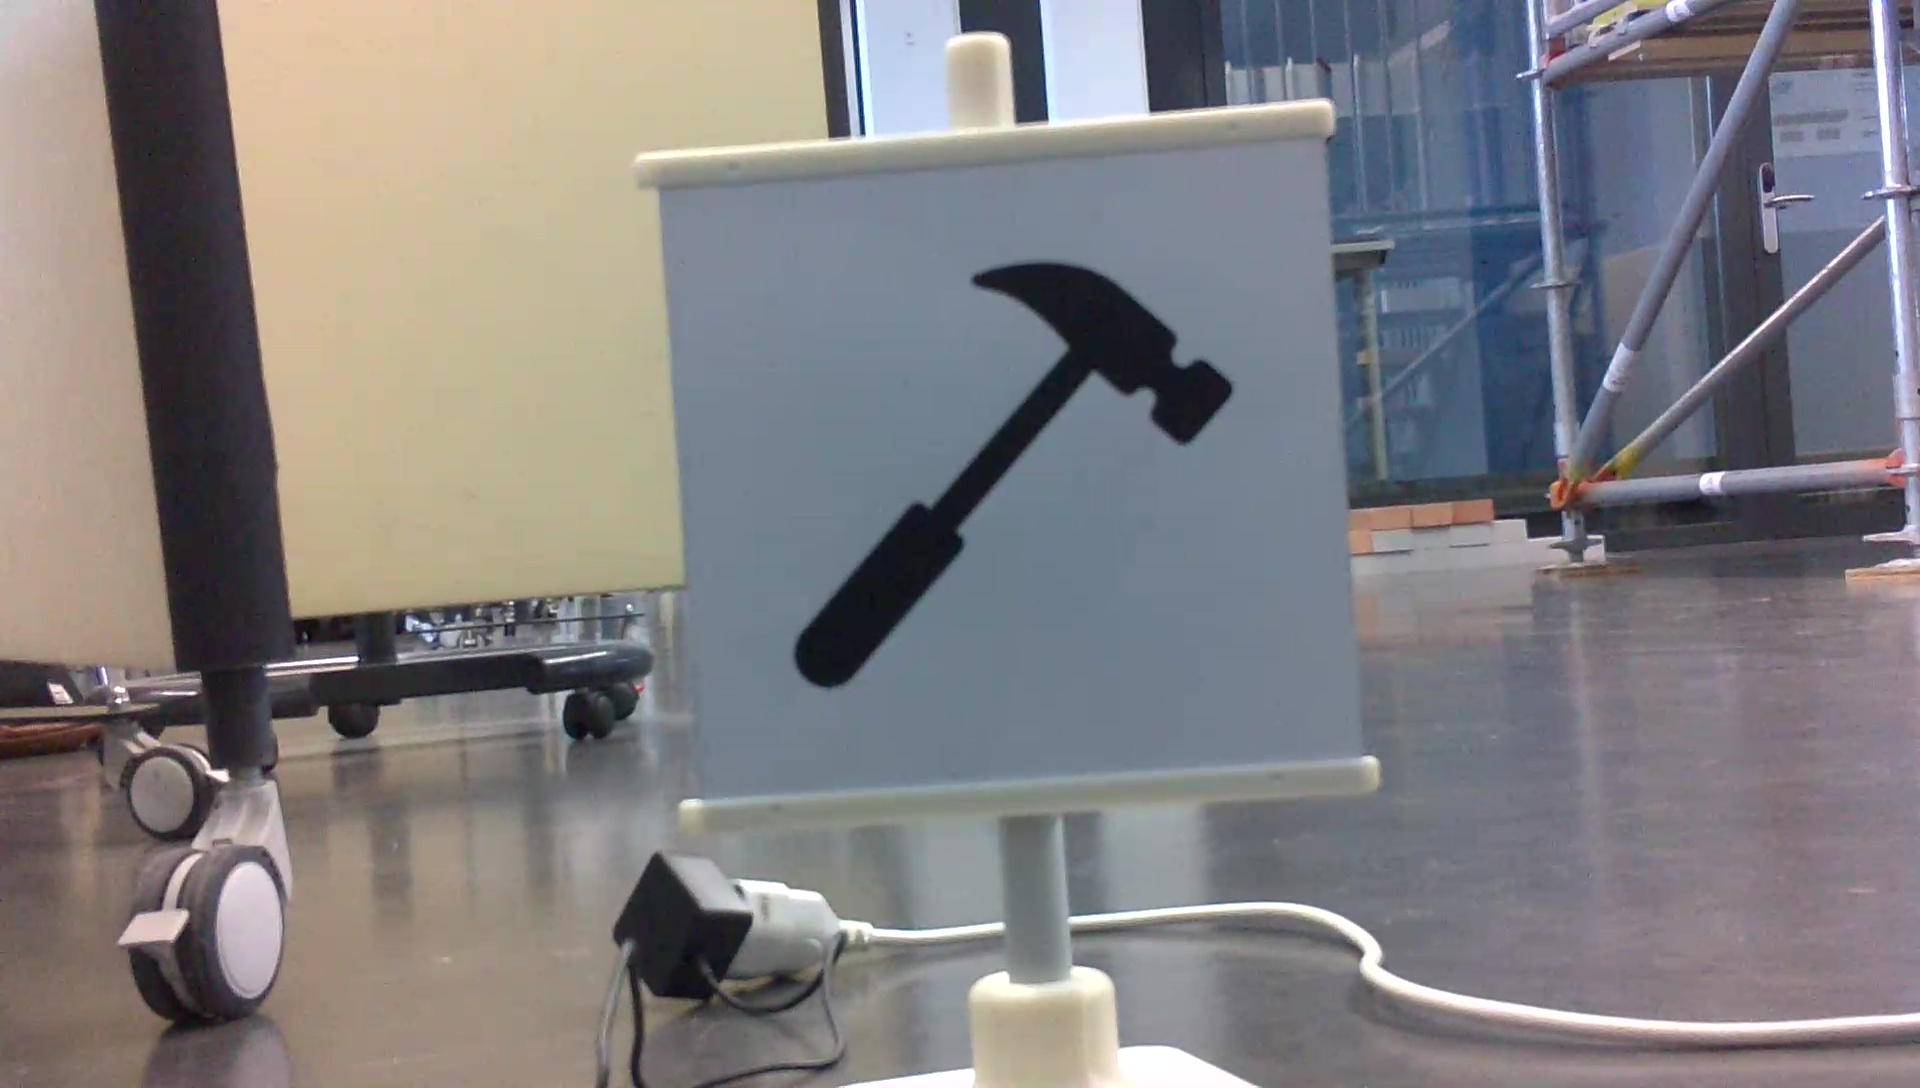hammer: (782, 253, 1245, 698)
